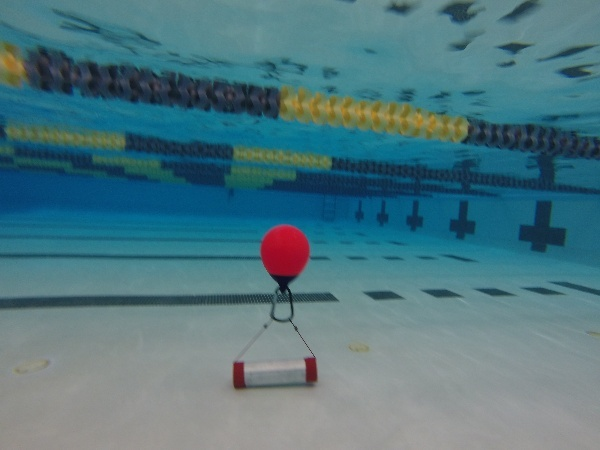buoy_red: (252, 224, 314, 296)
